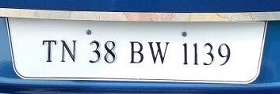1: (191, 40, 201, 67), (182, 42, 189, 67)
3: (88, 38, 103, 65), (203, 42, 216, 67)
8: (102, 40, 119, 65)
9: (217, 40, 233, 69)
B: (128, 40, 146, 65)
N: (60, 39, 79, 63)
T: (41, 39, 57, 64)
W: (146, 41, 170, 66)
